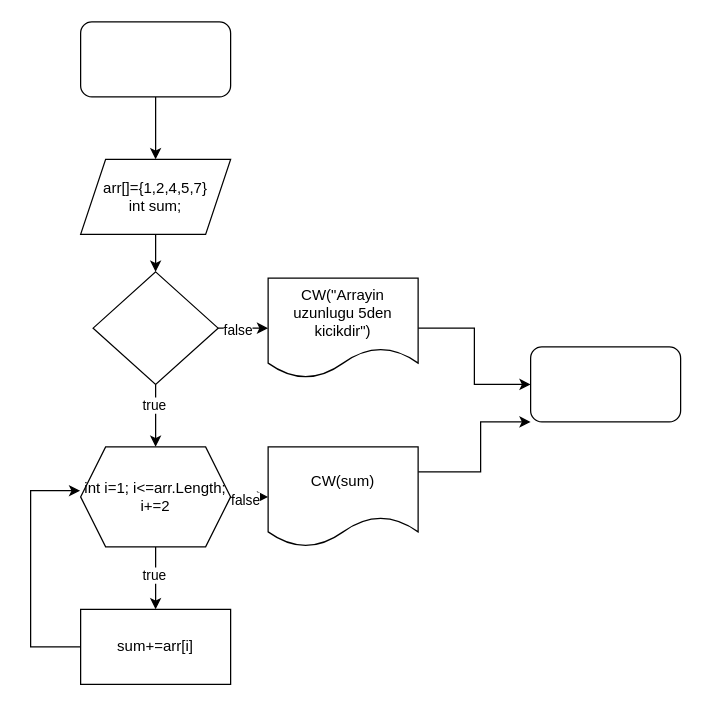
Some shapes in this 703 by 706 pixel diagram are drawn without their labels. Here are the shapes that lost their labels. From the top down, the box of each, then its label:
(79, 21, 231, 97): start
(92, 271, 218, 384): arr.Length>=5
(529, 346, 681, 422): end
